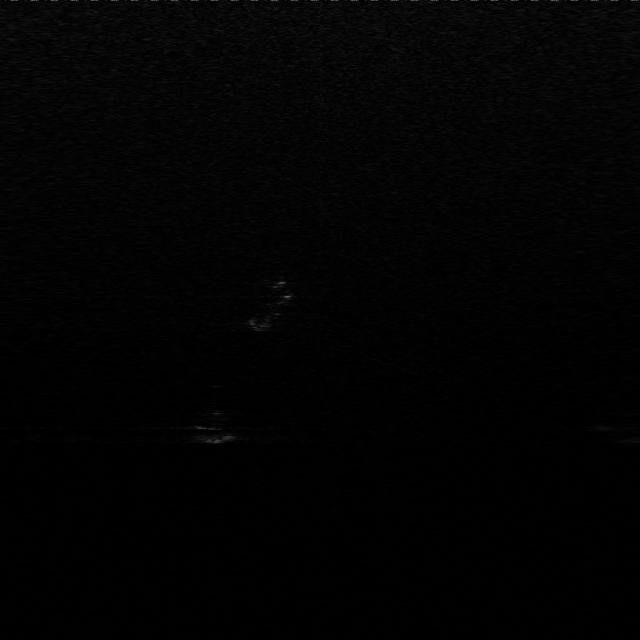ball: (176, 391, 248, 448)
tyre: (233, 271, 304, 336)
